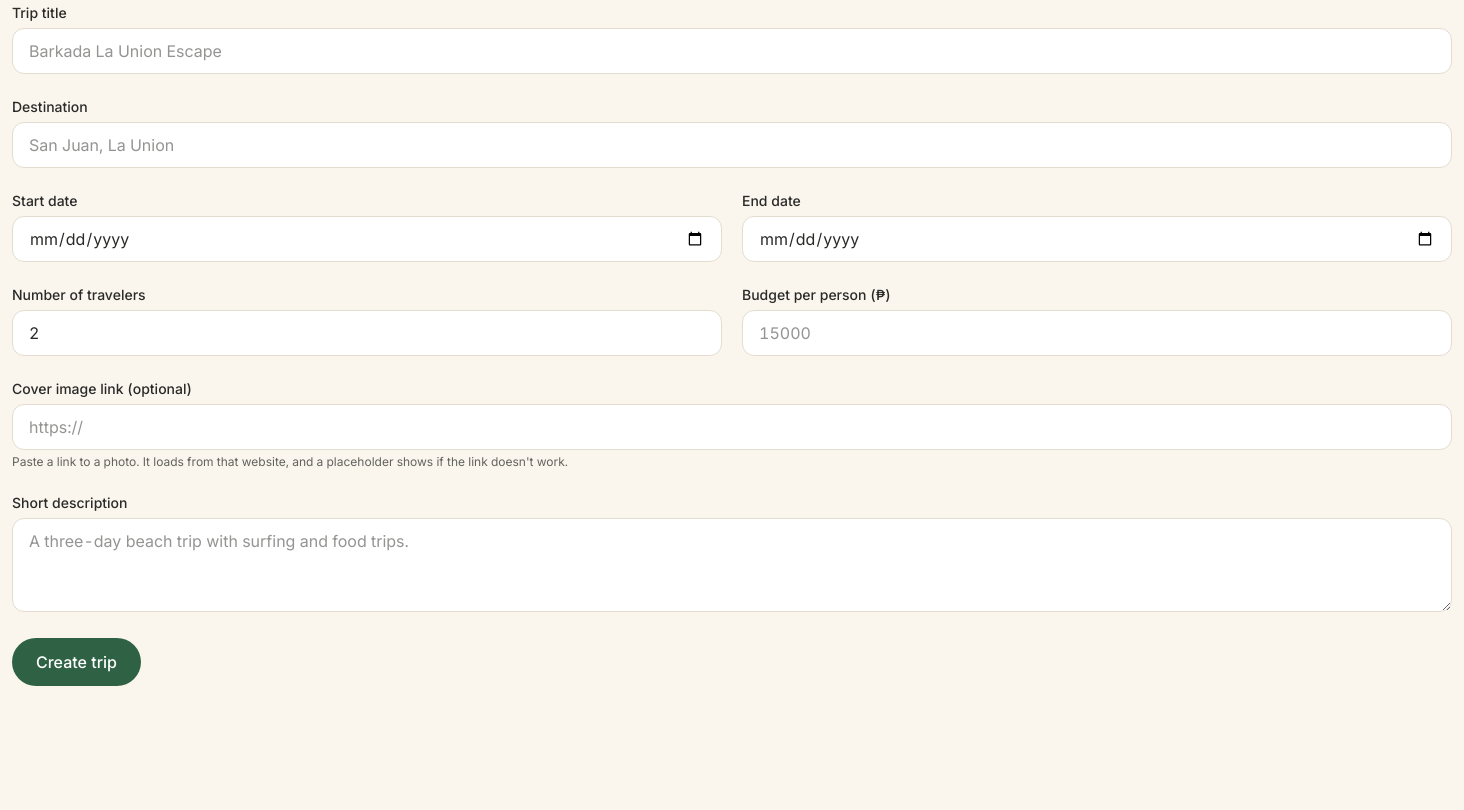
it: TripForm › rejects a cover image that is not an http or https link
The image size is (1464, 810).
Type "javascript:alert(1)" into the field labelled "Cover image link (optional)".
click(732, 427); type("javascript:alert(1)")  # box [12,404,1452,450]
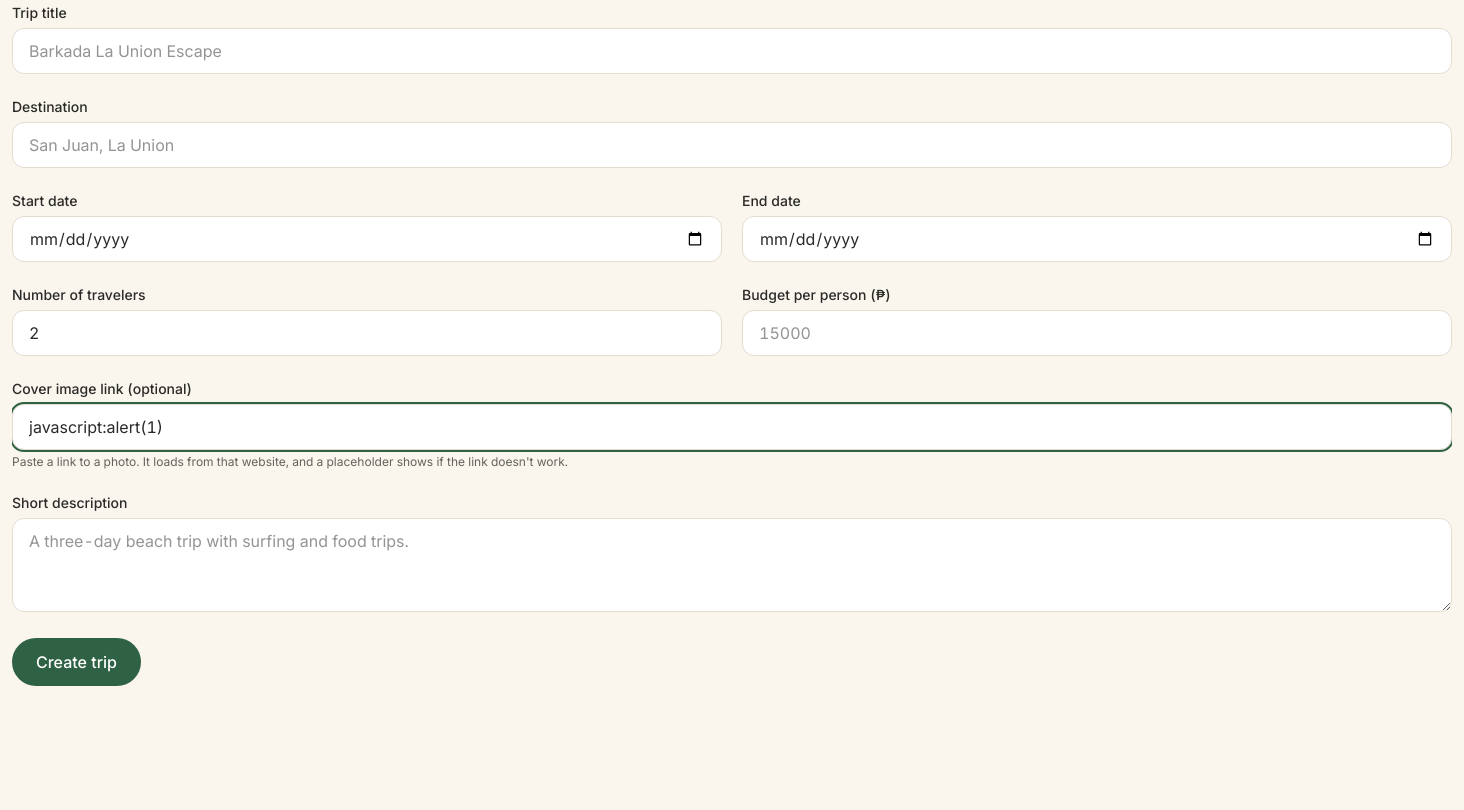
Click the button "Create trip".
click(76, 662)  # box [12,638,141,686]
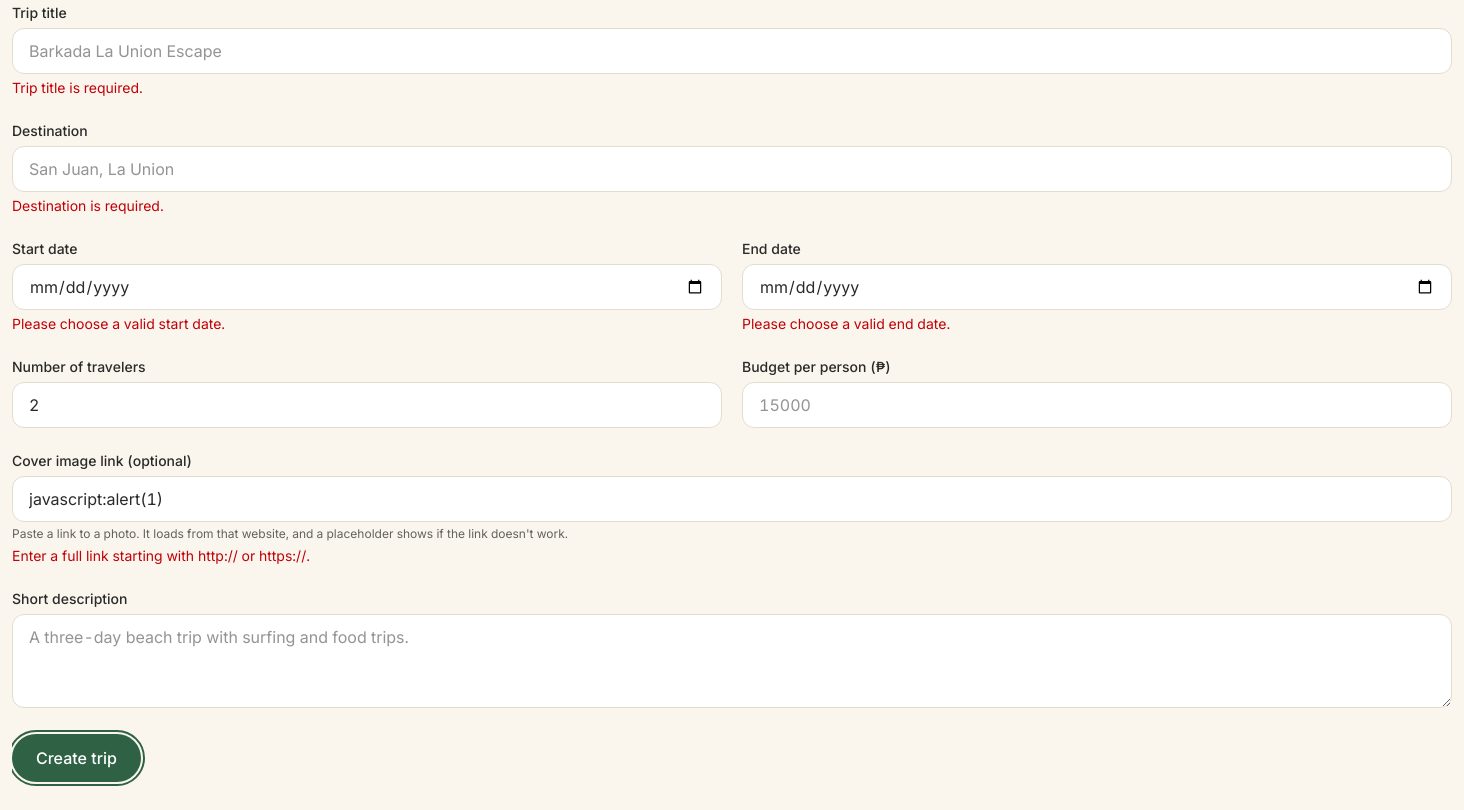
Expected: the text "Enter a full link starting with http:// or https://." is shown, [12,547,310,564]
